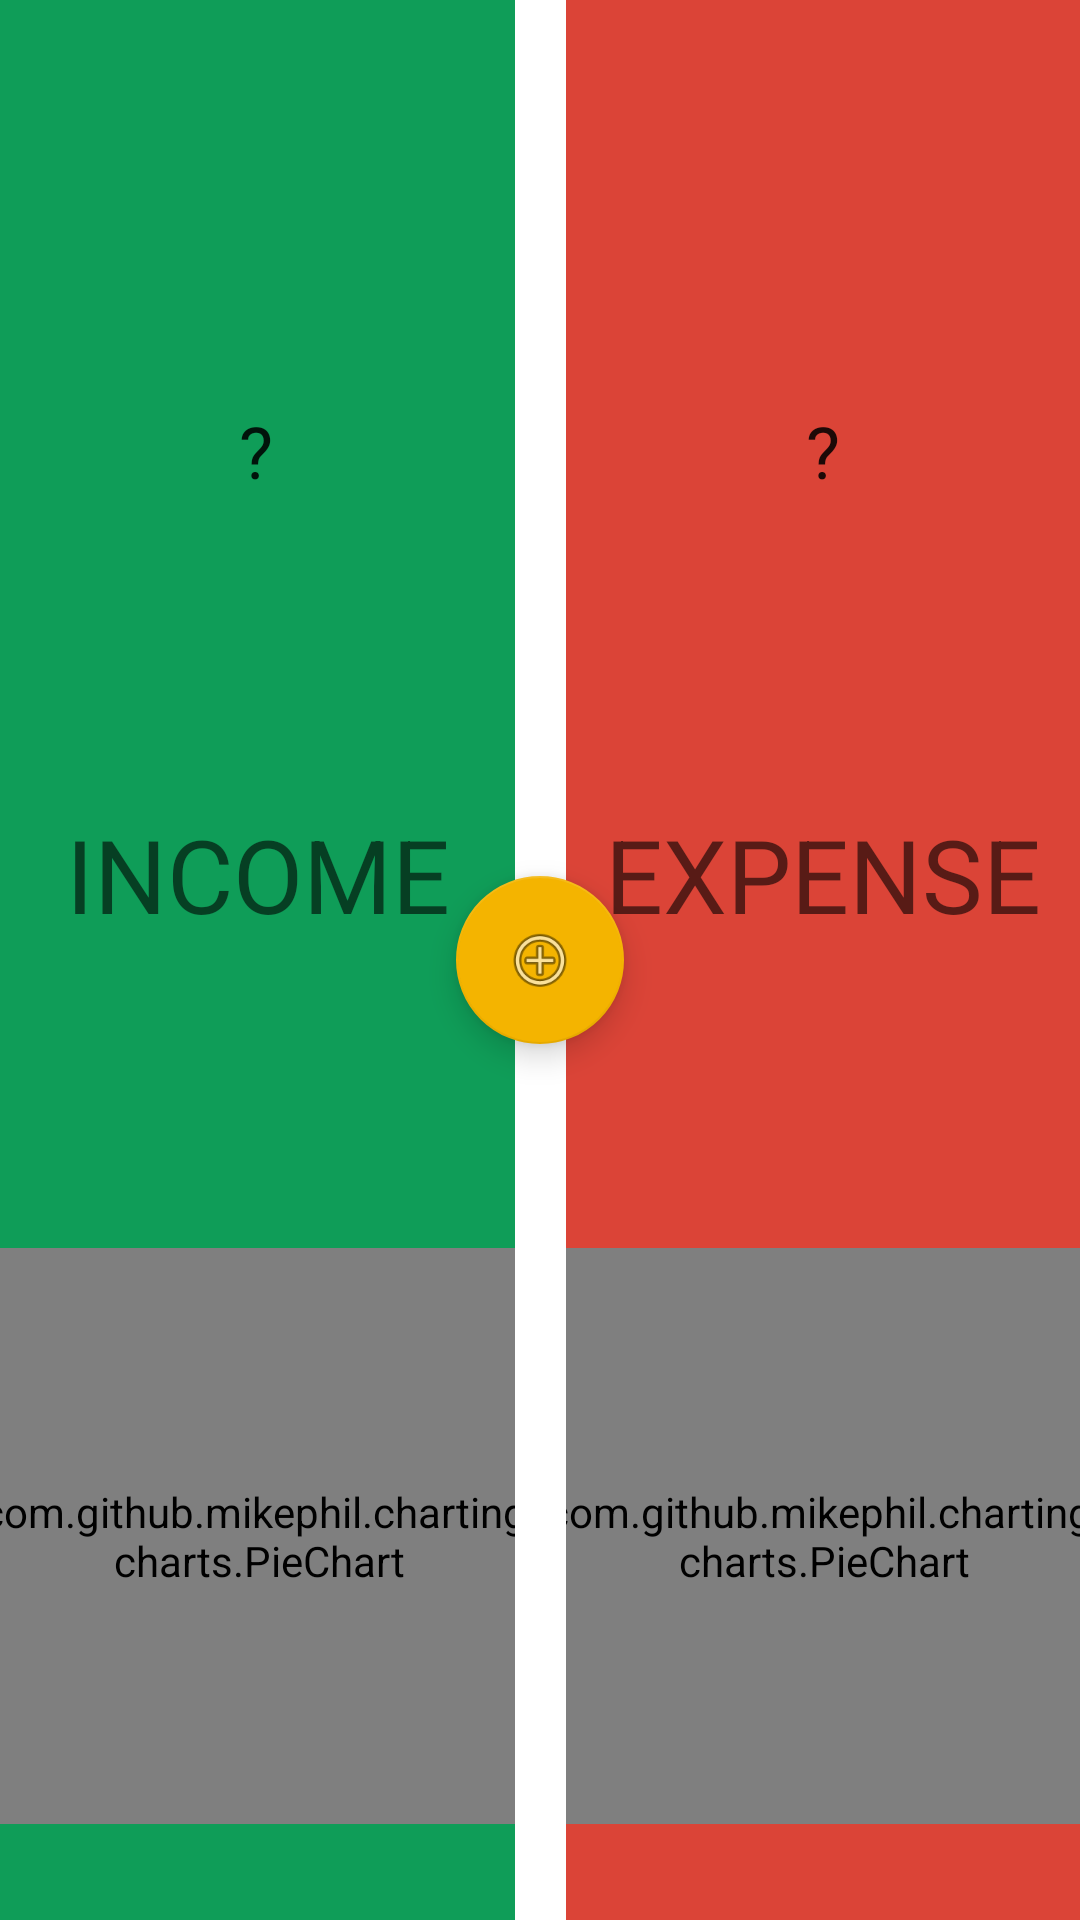

Icon click points for this 1080px×1920px phone screenshot, format (x,y):
add: (540,960)
